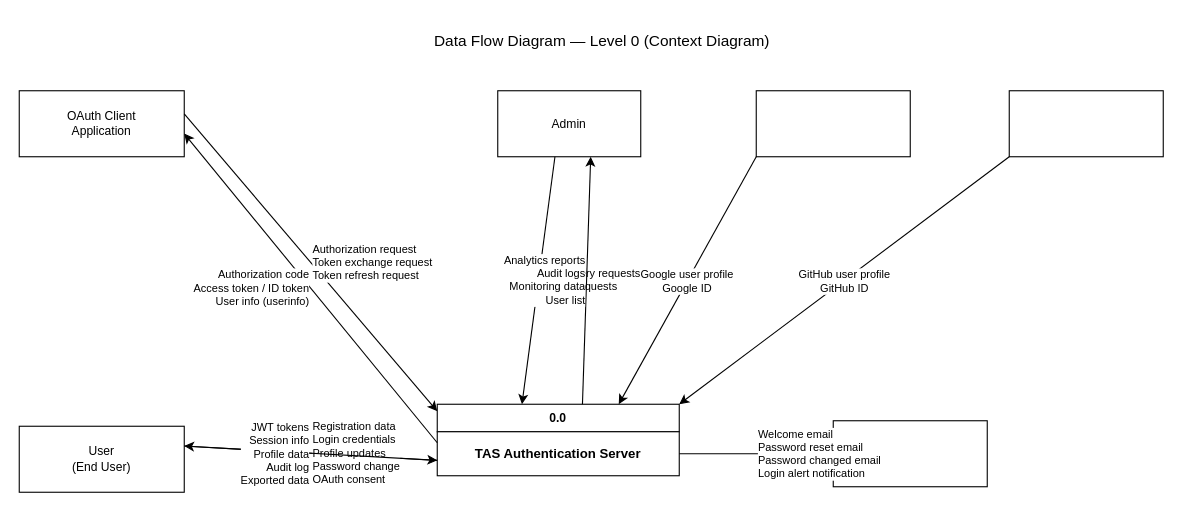
This 1183x512 diagram has some shape labels left out. The centre of each missing label's shape, as x and y in pixels:
Email Service (SMTP): (909,453)
GitHub OAuth Provider: (1085,123)
Google OAuth Provider: (832,123)
